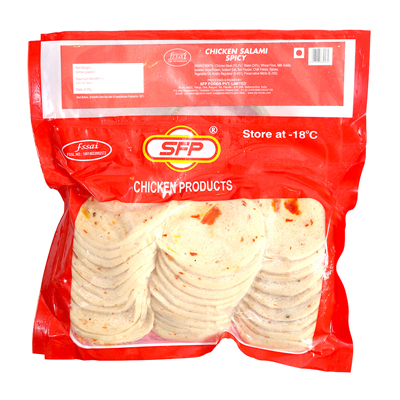nonveg_red: (293, 47, 306, 59)
